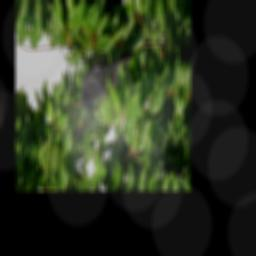Crow: (78, 38, 136, 123)
